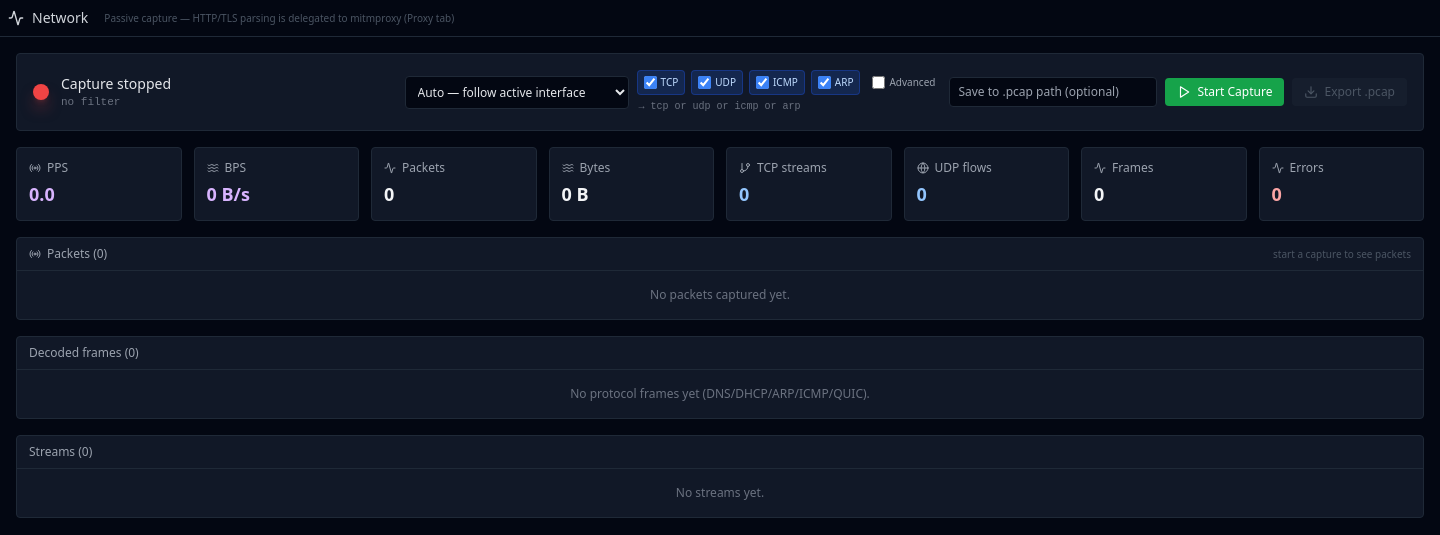
Scenario: Network — BPF protocol checkboxes + advanced mode › disables Start when no protocol is selected
The width and height of the screenshot is (1440, 535).
Expected: the dropdown is shown, [404, 76, 628, 108]
Click the checkbox labelled "TCP": (650, 82) [644, 76, 656, 89]
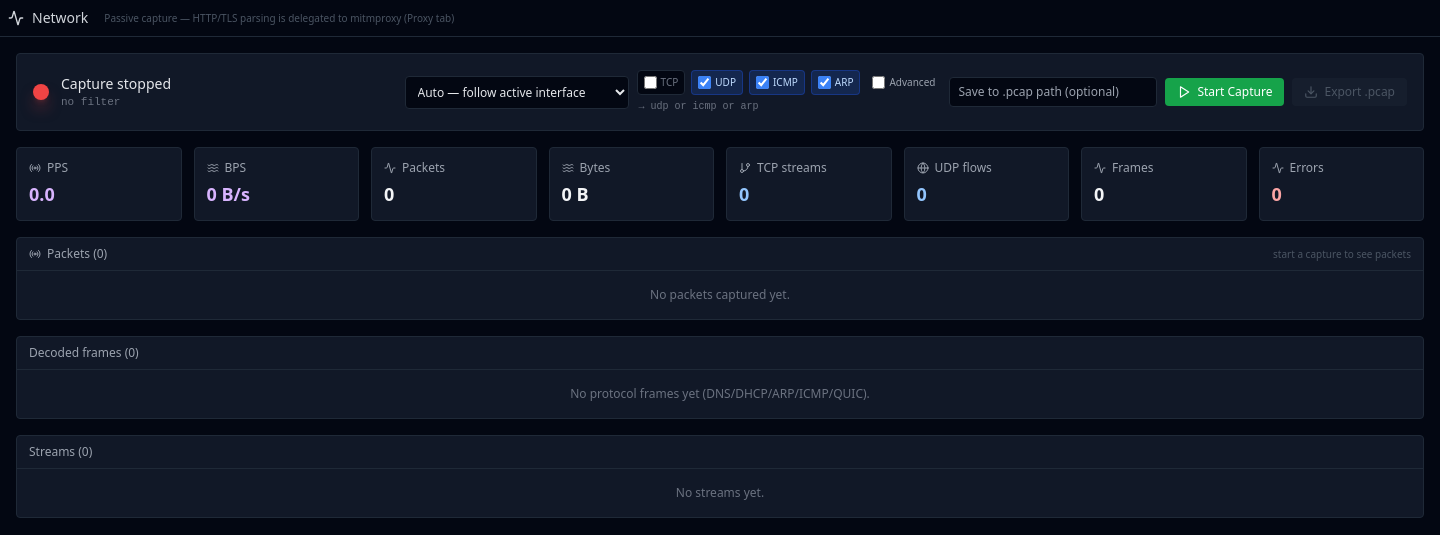
Click the checkbox labelled "UDP": (705, 82) [698, 76, 711, 89]
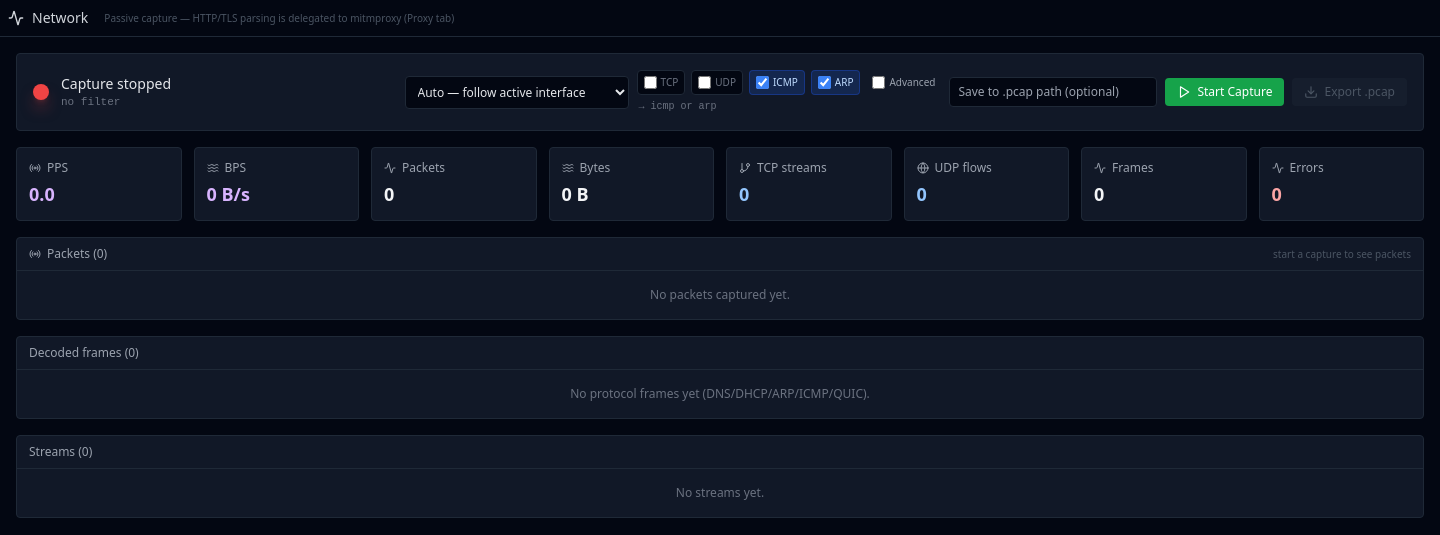
Click the checkbox labelled "ICMP": (762, 82) [756, 76, 769, 89]
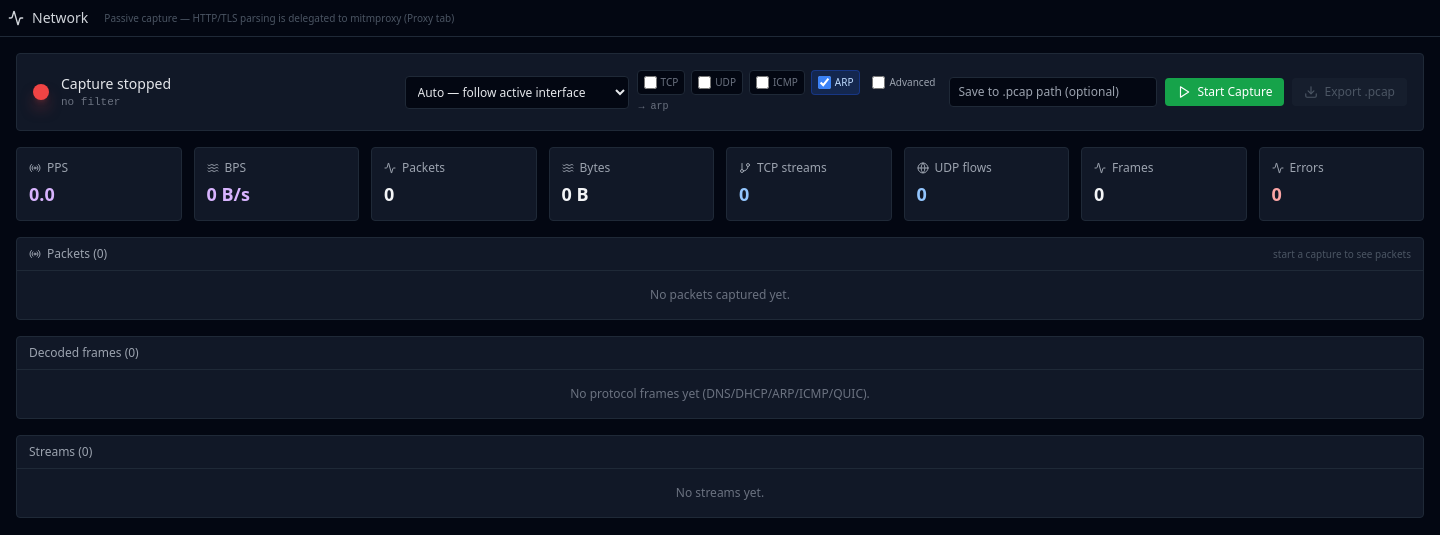
Click the checkbox labelled "ARP": (824, 82) [818, 76, 831, 89]
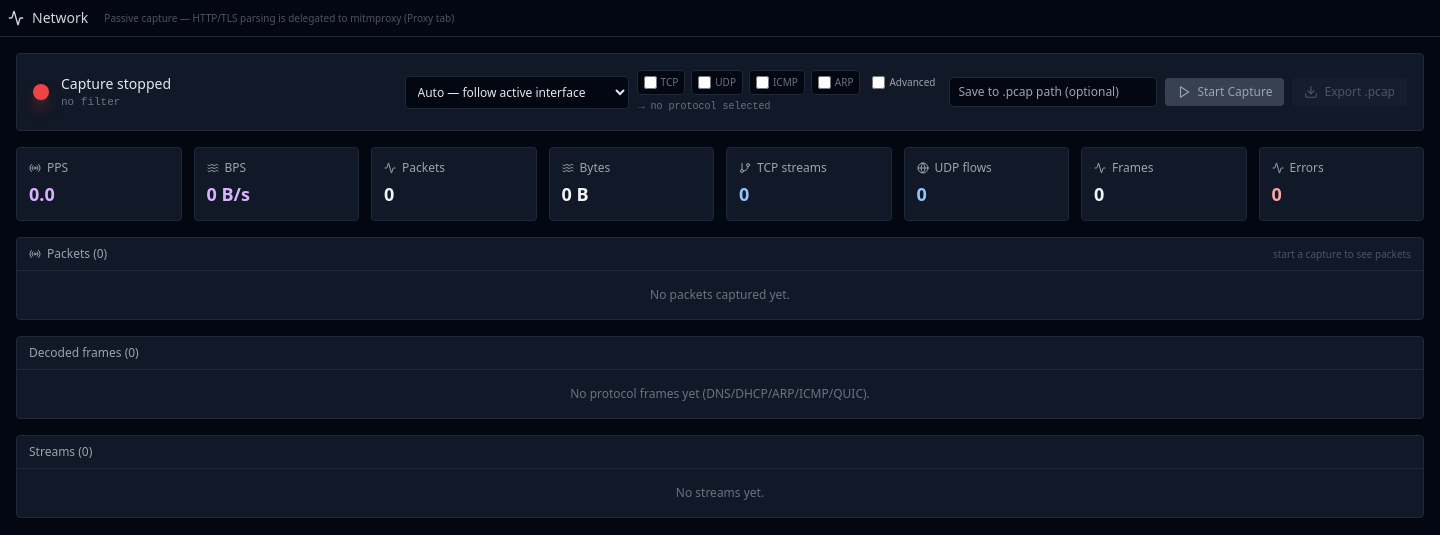
Expected: the text "→ no protocol selected" is shown, [638, 101, 770, 112]
Expected: the button "Start Capture" is disabled, [1166, 78, 1284, 106]
